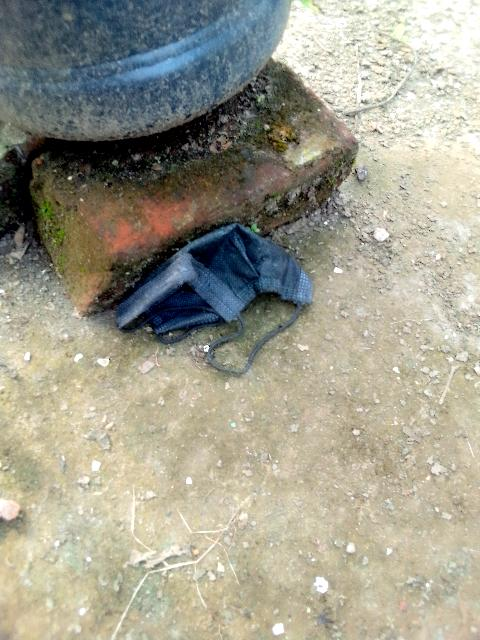mask: (129, 233, 326, 367)
